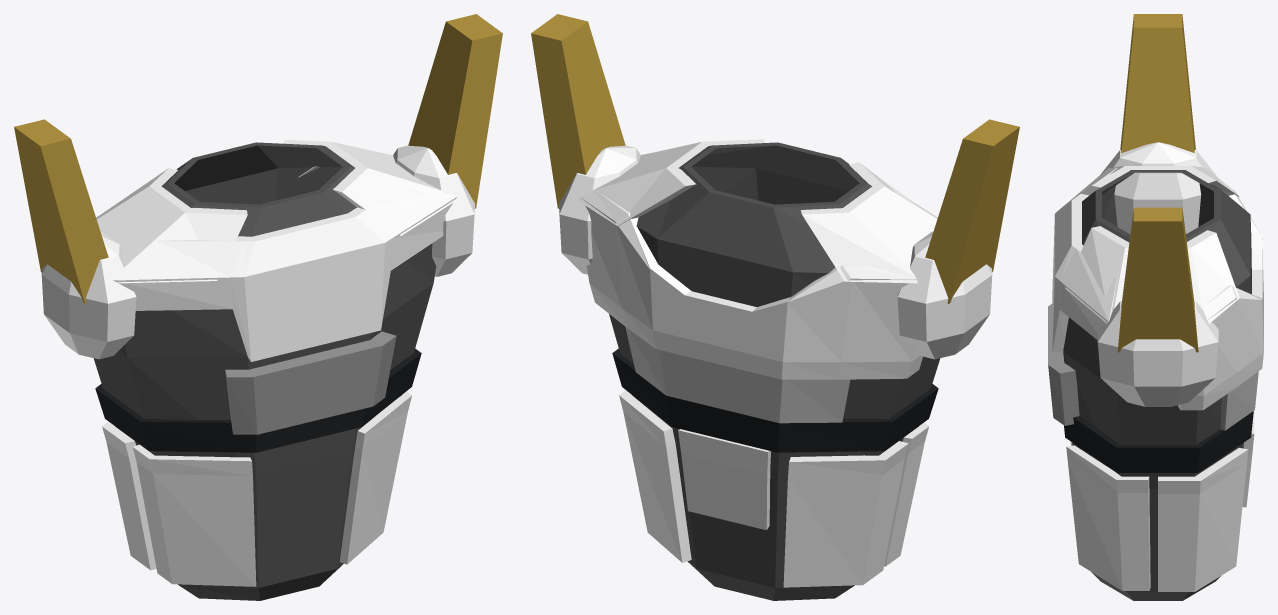
File: person_hulk_armor_recon_prestige.obj
The picture shows the model from 3 angles, left to right: view 1: azimuth 30°, elevation 25°; view 2: azimuth 150°, elevation 25°; view 3: azimuth 270°, elevation 25°; orthographic projection. The views are drawn at different scales.
Visible parts, largest first — view 1: object 2, person_hulk_armor_recon_prestige_addons; view 2: object 2, person_hulk_armor_recon_prestige_addons; view 3: object 2, person_hulk_armor_recon_prestige_addons.
Part boxes in pixels (box(x1,y1,x2,y2)): object 2: box(41, 139, 474, 600); person_hulk_armor_recon_prestige_addons: box(14, 14, 502, 303); object 2: box(559, 139, 992, 600); person_hulk_armor_recon_prestige_addons: box(531, 14, 1019, 303); object 2: box(1048, 142, 1263, 600); person_hulk_armor_recon_prestige_addons: box(1117, 14, 1198, 352).
Size of the model in its own units: 0.9074 by 0.92 by 0.3993.
